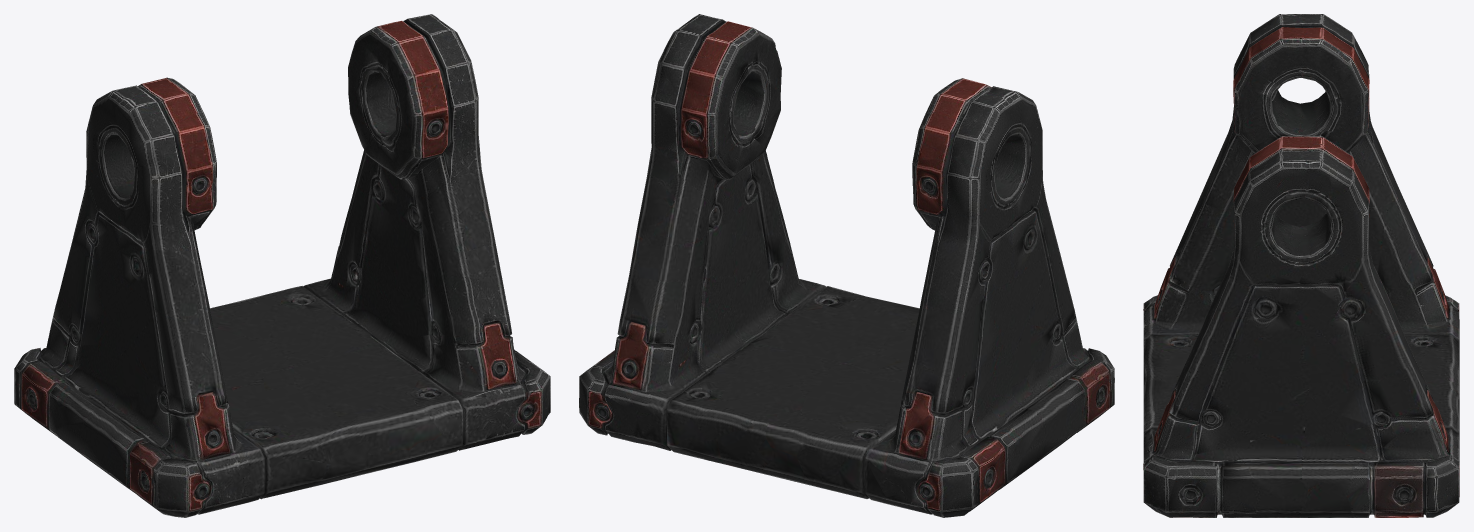
The model's file is new_hammer_hinge_mount.glb.
3 views of the same model, side by side, from view 1: azimuth 30°, elevation 25°; view 2: azimuth 150°, elevation 25°; view 3: azimuth 270°, elevation 25° (orthographic). The views are drawn at different scales.
Parts seen in each view (by area): view 1: mesh_node; view 2: mesh_node; view 3: mesh_node.
Boxes of the visible parts, box(x1,y1,x2,y2) form: mesh_node: box(14, 14, 550, 517); mesh_node: box(579, 14, 1114, 517); mesh_node: box(1143, 14, 1459, 517).
Size of the model in its own units: 1.9 by 1.66 by 1.38.
1 material, 1 textured.
